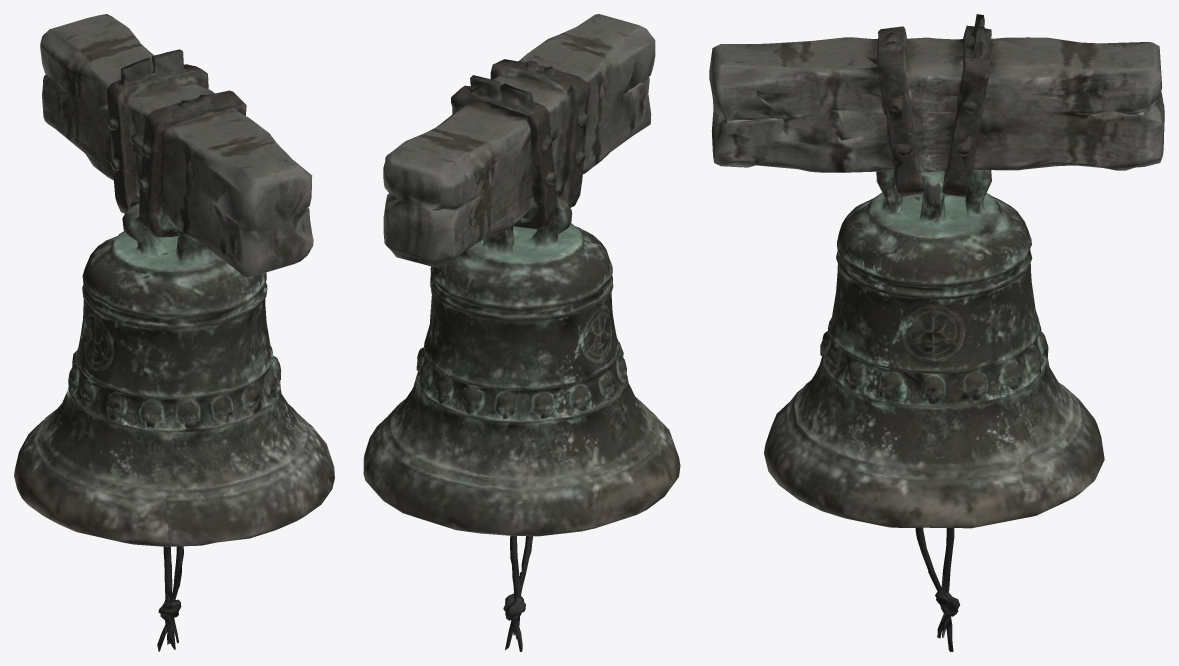
The model's file is carters_bell.57885409.glb.
The picture shows the model from 3 angles, left to right: view 1: azimuth 30°, elevation 25°; view 2: azimuth 150°, elevation 25°; view 3: azimuth 270°, elevation 25°; orthographic projection. The views are drawn at different scales.
Parts seen in each view (by area): view 1: carters_bell; view 2: carters_bell; view 3: carters_bell.
Boxes of the visible parts, bbox=[...] form: carters_bell: bbox=[14, 14, 334, 651]; carters_bell: bbox=[363, 14, 680, 651]; carters_bell: bbox=[709, 14, 1164, 651].
Bounding box in the file's own units: 0.4916 × 0.9923 × 0.658.
1 material, 1 textured.
